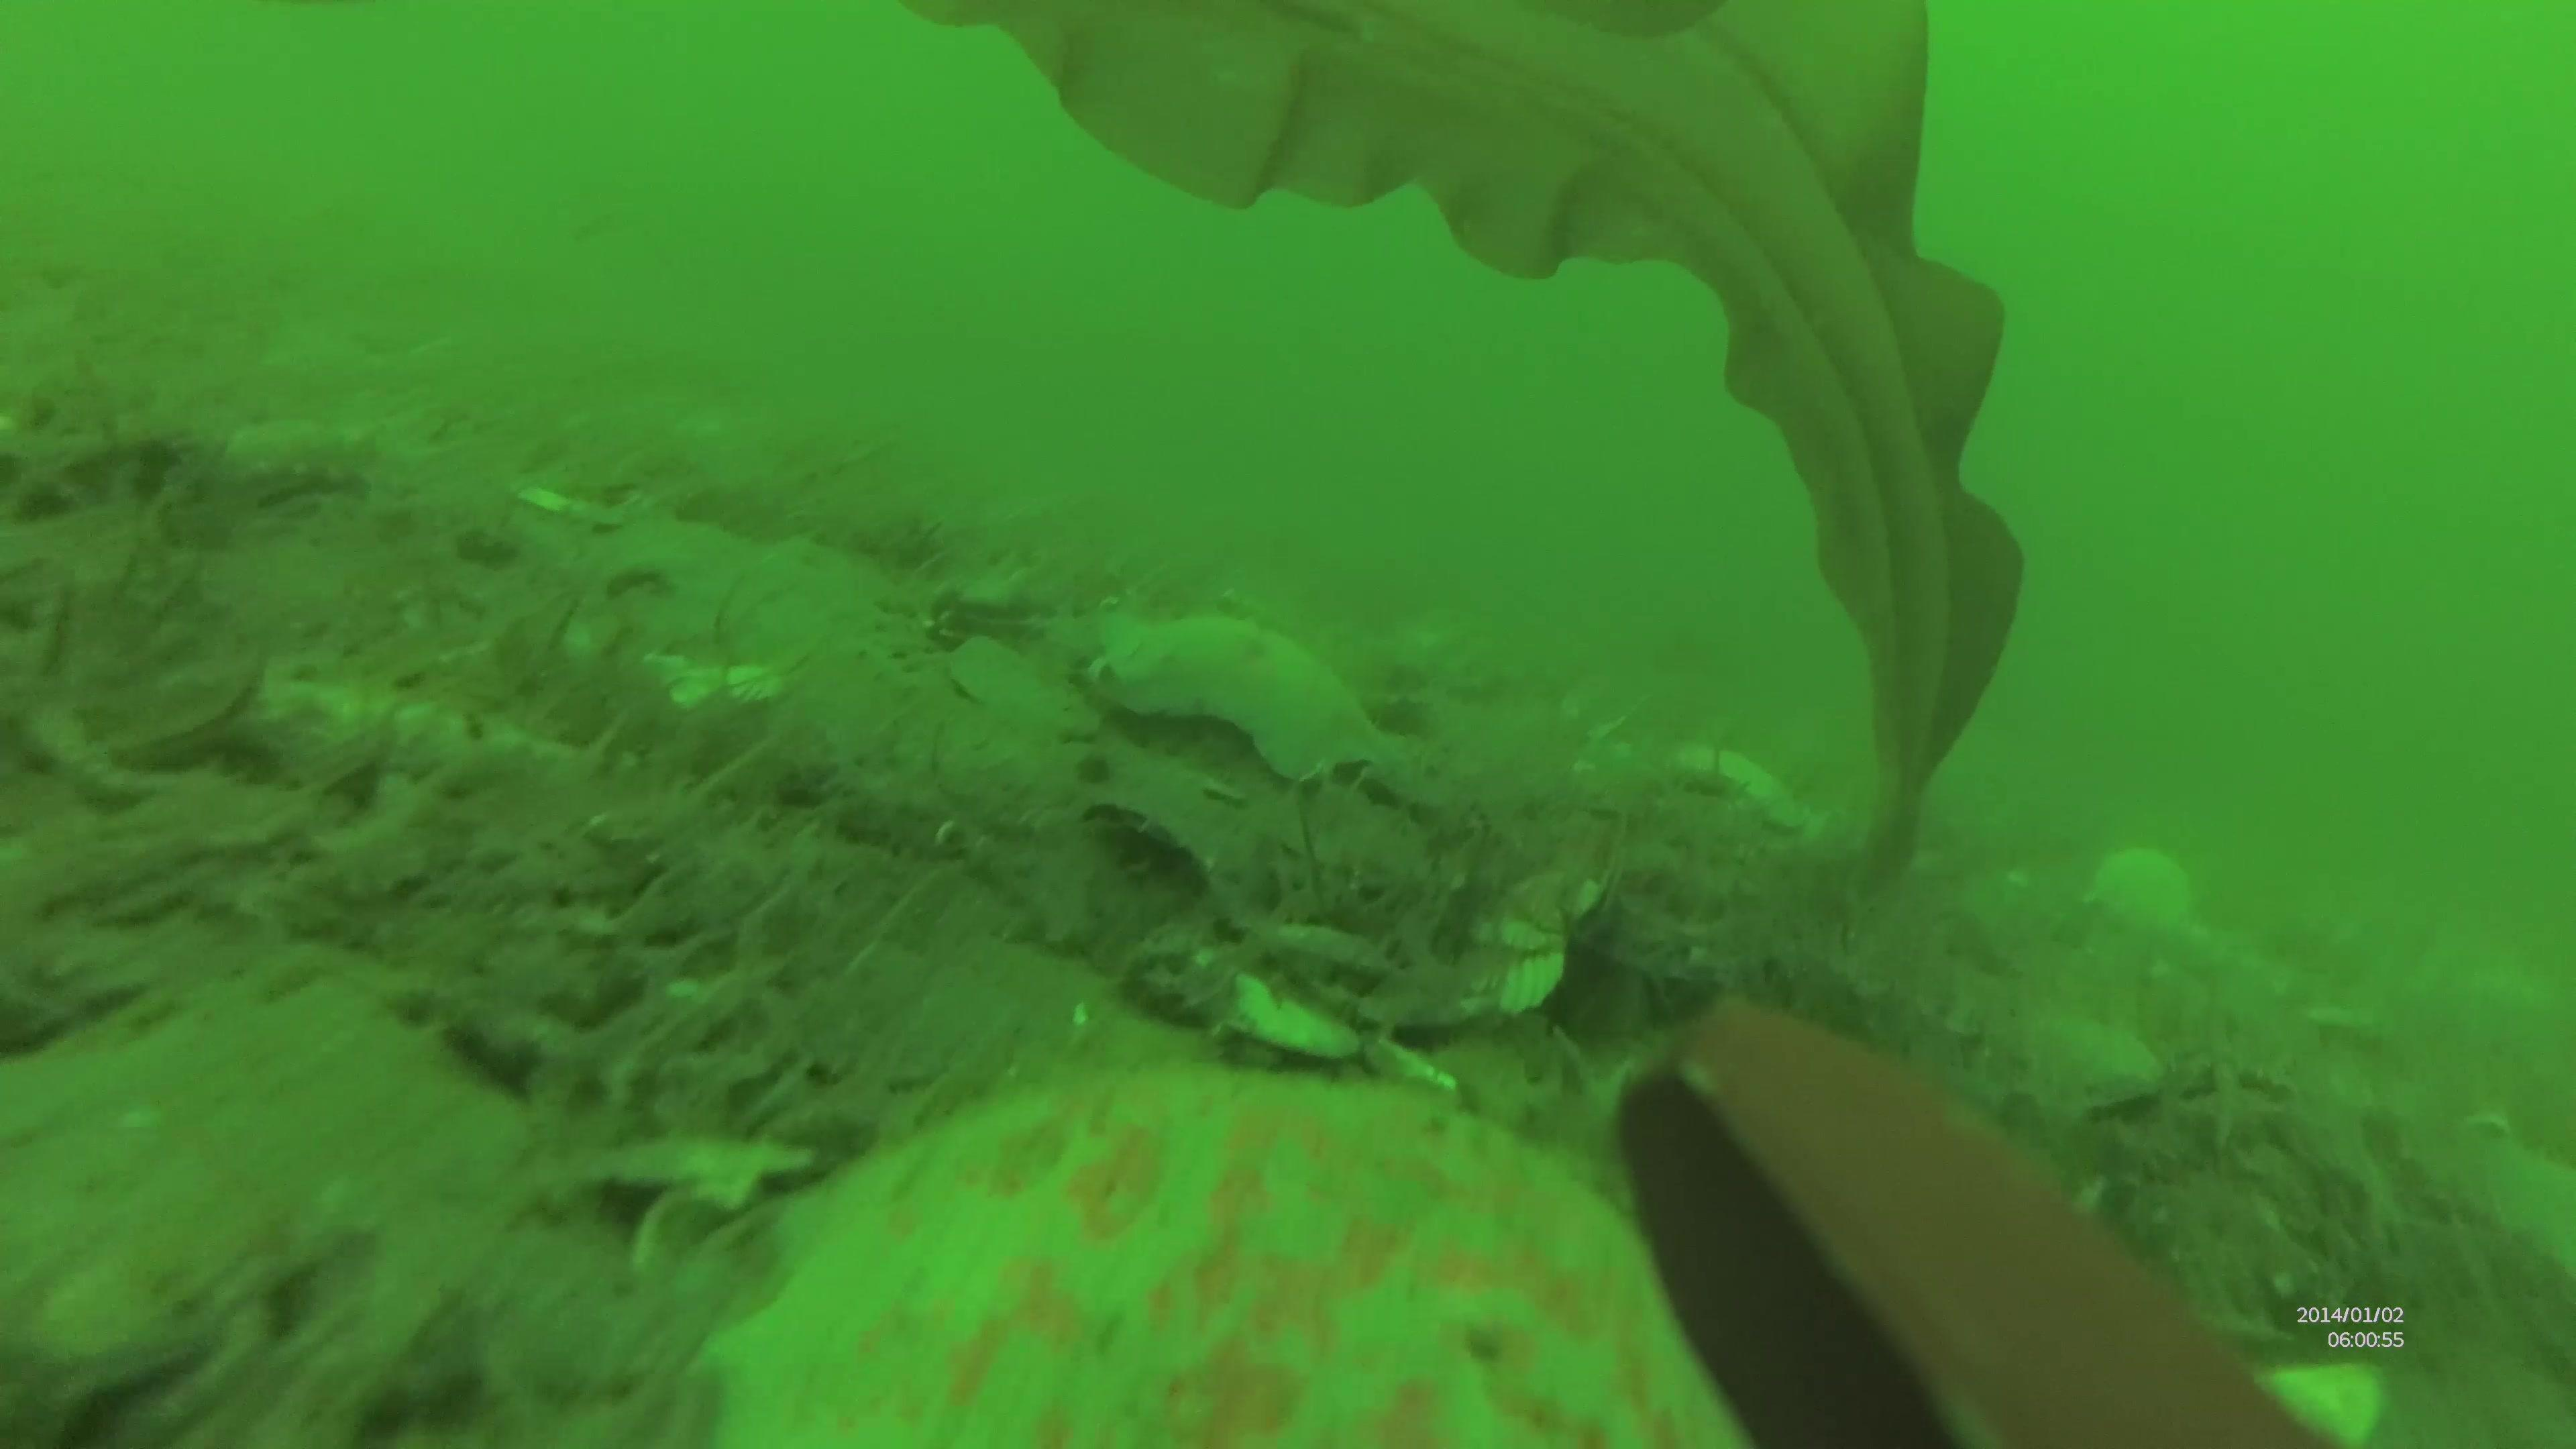holothurian: (203, 416, 419, 506)
starfish: (651, 1063, 1771, 1449), (1079, 600, 1438, 810)
